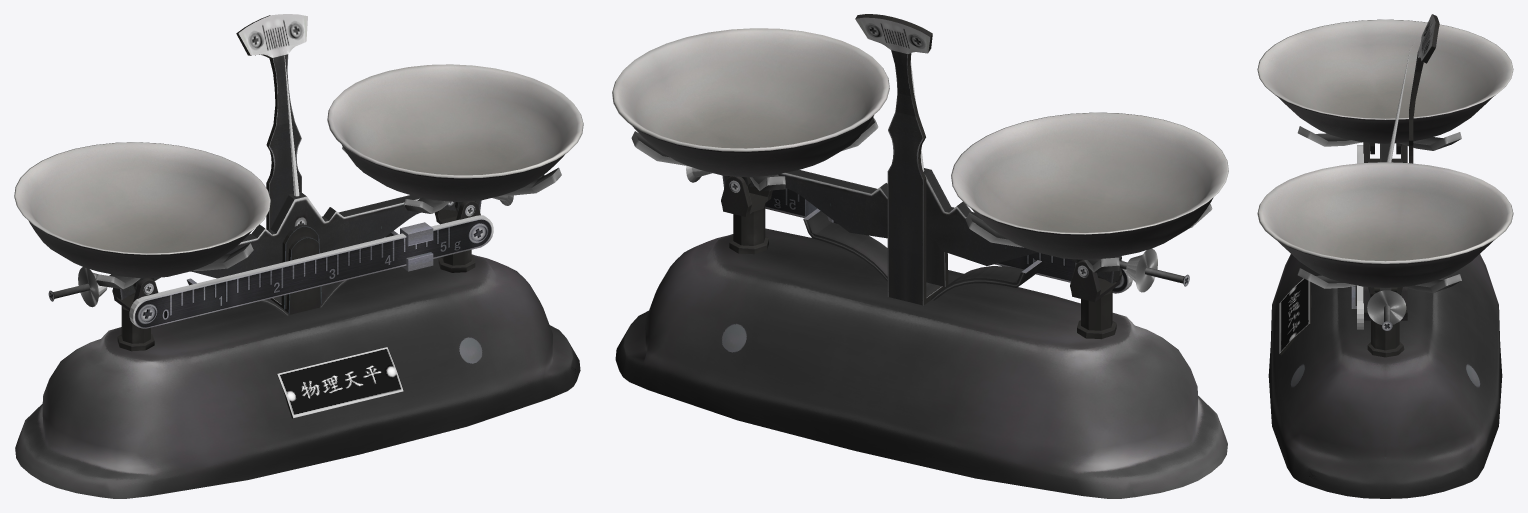
Rendered from chemical_libra.FBX.
The picture shows the model from 3 angles, left to right: view 1: azimuth 30°, elevation 25°; view 2: azimuth 150°, elevation 25°; view 3: azimuth 270°, elevation 25°; orthographic projection. The views are drawn at different scales.
Parts seen in each view (by area): view 1: chemical_libra; view 2: chemical_libra; view 3: chemical_libra.
Part boxes in pixels (<box>): chemical_libra: <box>14,14,583,498</box>; chemical_libra: <box>612,14,1228,498</box>; chemical_libra: <box>1257,14,1513,498</box>.
Size of the model in its own units: 25.49 by 17.05 by 11.2.
2 materials, 1 textured.
